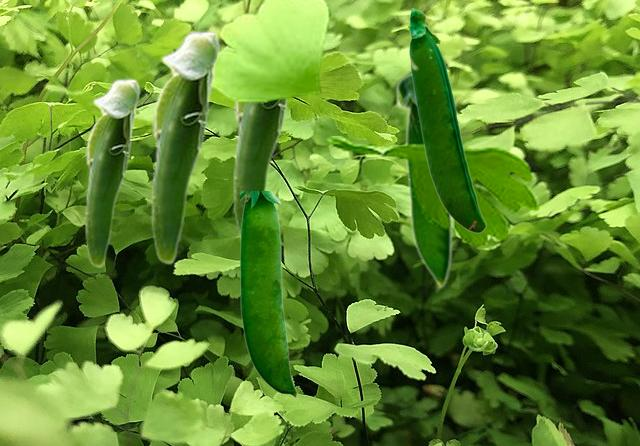pea: (407, 7, 485, 232), (150, 30, 220, 264), (394, 71, 452, 292), (240, 191, 296, 398), (84, 78, 140, 267), (232, 99, 291, 240)
